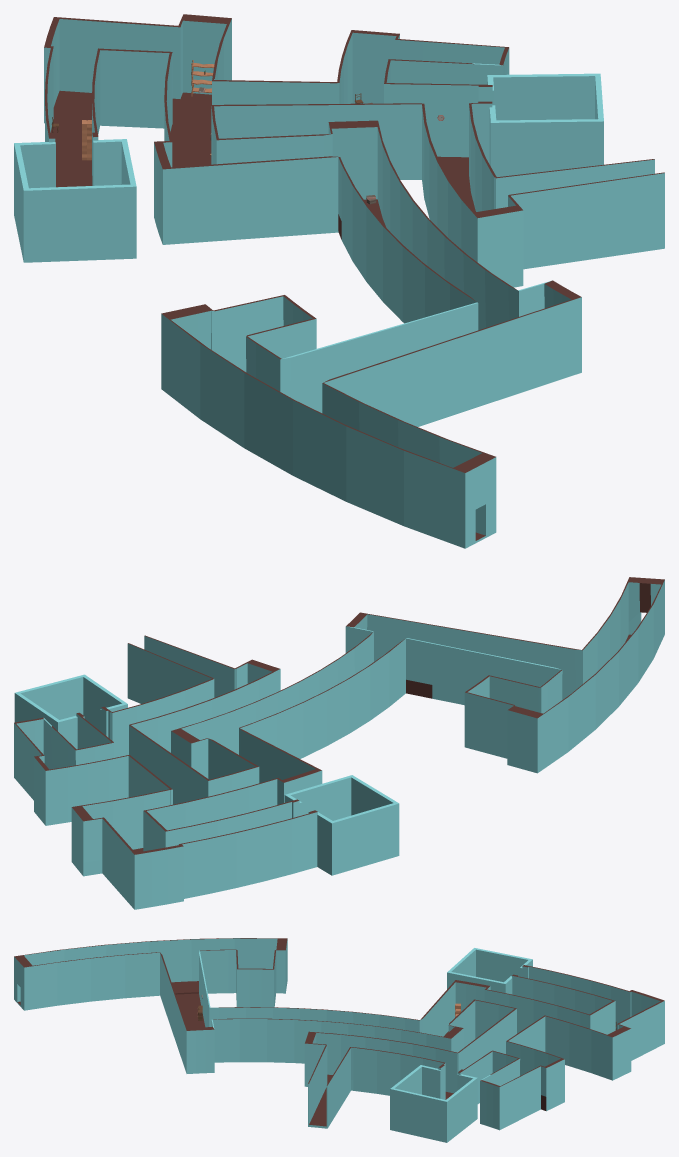
The model's file is labyrinth_mit_zeug.fbx.
3 renders of one model, top to bottom at view 1: azimuth 30°, elevation 25°; view 2: azimuth 150°, elevation 25°; view 3: azimuth 270°, elevation 25°, orthographic. The views are drawn at different scales.
Visible parts, largest first — view 1: Cube.012; view 2: Cube.012; view 3: Cube.012.
Part boxes in pixels (x1,y1,x2,y2): Cube.012: [14, 14, 664, 548]; Cube.012: [14, 577, 664, 909]; Cube.012: [14, 938, 664, 1142].
Bounding box in the file's own units: 8120 × 1012 × 13810.
